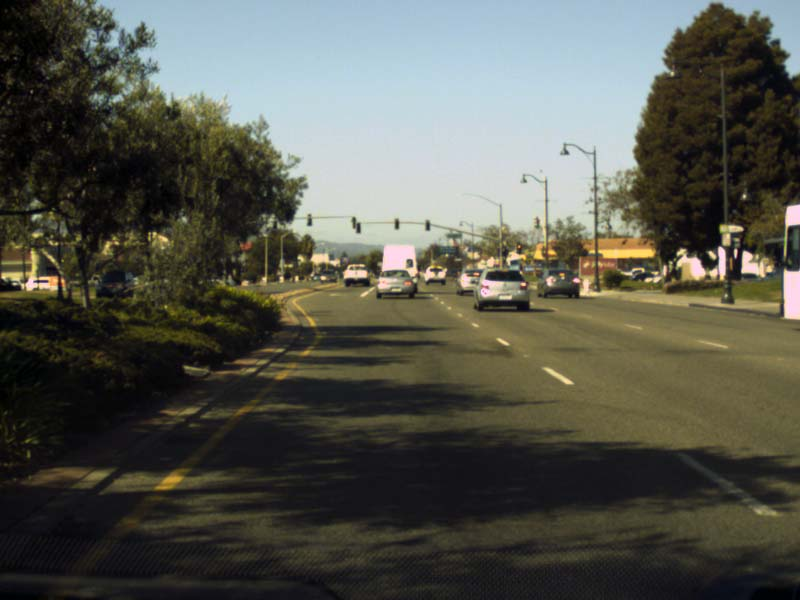Yellow: (516, 241, 521, 255)
